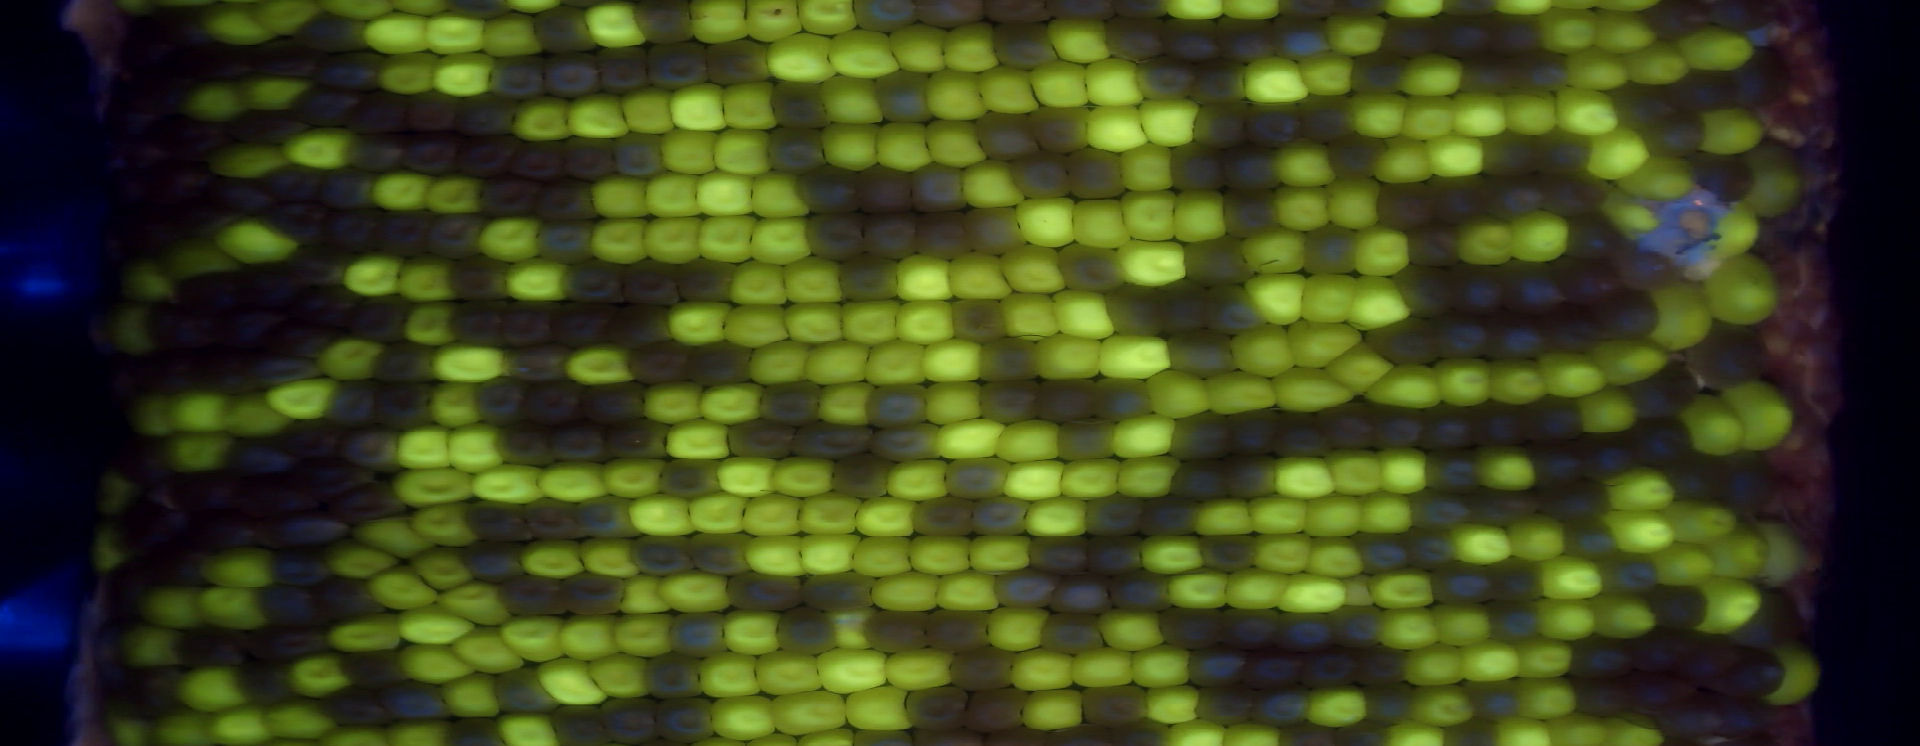fluorescent: (1698, 250, 1788, 332), (1638, 276, 1720, 358), (1718, 377, 1802, 454), (1738, 137, 1812, 222), (208, 211, 307, 269), (1676, 388, 1753, 462), (1671, 18, 1763, 78), (1693, 573, 1771, 639), (148, 232, 242, 285), (825, 23, 907, 85), (168, 660, 255, 718), (1283, 315, 1368, 374), (195, 1, 288, 54), (1269, 363, 1359, 416), (1758, 639, 1827, 710), (1602, 503, 1686, 561), (1586, 336, 1674, 391), (348, 513, 442, 565), (1111, 235, 1196, 292), (1746, 514, 1813, 586), (1706, 519, 1778, 586), (187, 581, 272, 637), (763, 685, 852, 737), (1343, 271, 1413, 338), (388, 461, 484, 510), (920, 65, 994, 127), (816, 72, 891, 134), (762, 28, 844, 85), (388, 601, 482, 650), (1619, 151, 1704, 205), (1583, 120, 1654, 185), (1041, 13, 1119, 72), (1092, 330, 1179, 382), (1043, 284, 1118, 345), (813, 646, 898, 699), (433, 577, 516, 632), (1660, 495, 1746, 548), (446, 624, 529, 677), (997, 240, 1073, 299), (1599, 461, 1680, 516), (312, 331, 389, 388), (1206, 365, 1283, 423), (1062, 194, 1139, 251), (535, 652, 610, 710), (1264, 132, 1340, 190), (320, 535, 407, 586), (1013, 191, 1082, 254), (132, 581, 213, 635), (1370, 130, 1442, 190), (262, 372, 344, 425), (396, 638, 484, 687), (751, 646, 829, 701), (1402, 675, 1480, 730), (655, 565, 735, 619), (1532, 347, 1611, 401), (1318, 171, 1386, 234), (1239, 223, 1315, 279), (1619, 36, 1695, 92), (1082, 97, 1153, 157), (278, 122, 365, 171), (1692, 100, 1769, 156), (562, 87, 636, 145), (558, 338, 640, 390), (885, 17, 951, 81), (1242, 267, 1309, 330), (639, 208, 708, 269), (1506, 208, 1575, 269), (1324, 342, 1393, 402), (496, 610, 572, 665), (1238, 51, 1314, 107), (197, 541, 280, 592), (665, 80, 736, 138), (1321, 443, 1392, 502), (1229, 320, 1300, 379), (1133, 93, 1205, 151), (361, 563, 442, 615), (1134, 526, 1211, 579), (959, 156, 1032, 212), (694, 647, 768, 703), (531, 454, 613, 505), (1502, 510, 1577, 565), (1147, 365, 1216, 425), (869, 118, 939, 176), (891, 247, 961, 306), (662, 298, 738, 352), (735, 488, 811, 541), (844, 684, 920, 737), (980, 601, 1056, 655), (552, 608, 623, 665), (1266, 178, 1337, 235), (920, 115, 992, 171), (945, 247, 1018, 304), (1428, 354, 1500, 410), (1562, 40, 1635, 97), (427, 334, 508, 385), (718, 301, 798, 352), (1364, 361, 1445, 412), (1118, 185, 1183, 247), (1455, 209, 1520, 272), (474, 211, 547, 266), (1081, 51, 1149, 111), (692, 209, 760, 268), (1033, 330, 1108, 383), (1550, 83, 1625, 137), (780, 252, 851, 309), (722, 255, 793, 311), (230, 71, 318, 116), (793, 526, 866, 581), (1353, 220, 1418, 282), (358, 9, 435, 60), (796, 336, 873, 387), (626, 488, 703, 539), (1051, 453, 1128, 505), (502, 254, 576, 307), (392, 418, 459, 477), (998, 287, 1065, 345), (1396, 47, 1469, 100), (975, 60, 1043, 118), (102, 292, 159, 360), (468, 458, 546, 508), (474, 10, 549, 62), (778, 295, 852, 348), (282, 648, 356, 701), (705, 691, 780, 744), (1532, 2, 1607, 55), (1422, 126, 1491, 183), (1375, 601, 1446, 657), (1169, 185, 1232, 247), (932, 416, 1011, 465), (939, 18, 1004, 78), (860, 336, 932, 390), (1587, 4, 1659, 58), (748, 167, 816, 224), (323, 611, 407, 658), (1479, 355, 1553, 408), (203, 698, 284, 746), (388, 250, 458, 305), (163, 383, 233, 439), (1423, 600, 1498, 652), (1097, 604, 1172, 655), (1104, 412, 1179, 463), (111, 255, 182, 309), (715, 605, 786, 659), (1513, 670, 1584, 724), (1537, 551, 1608, 605), (1271, 450, 1342, 503), (217, 388, 293, 439), (716, 78, 782, 136), (580, 1, 653, 54), (710, 451, 782, 503), (1124, 639, 1196, 692), (442, 419, 509, 475), (658, 125, 726, 180), (882, 453, 955, 505), (576, 530, 644, 586), (1648, 540, 1722, 592), (1472, 445, 1540, 500), (609, 608, 678, 661), (1531, 590, 1600, 644), (741, 530, 816, 581), (931, 568, 1005, 619), (1113, 452, 1188, 502), (1298, 268, 1359, 330), (710, 124, 774, 183), (587, 213, 651, 271), (1029, 55, 1093, 113), (1708, 198, 1764, 265), (140, 704, 229, 746), (912, 334, 984, 386), (408, 499, 480, 550), (1293, 45, 1360, 100), (337, 247, 405, 301), (1299, 530, 1368, 584), (686, 1, 759, 51), (1019, 685, 1092, 735), (994, 416, 1068, 467), (891, 295, 961, 348), (585, 650, 655, 703), (696, 379, 770, 428), (157, 424, 231, 473), (1297, 490, 1371, 539), (1019, 492, 1093, 541), (818, 118, 883, 174), (429, 48, 500, 99), (744, 213, 816, 265), (1398, 638, 1469, 690), (1447, 518, 1518, 570), (882, 644, 960, 691), (692, 167, 758, 222), (662, 415, 735, 465), (1223, 562, 1296, 612), (204, 137, 291, 179), (795, 488, 863, 540), (411, 171, 491, 217), (1009, 646, 1082, 695), (768, 451, 838, 502), (866, 570, 943, 616), (1597, 185, 1660, 241), (642, 167, 707, 222), (588, 168, 653, 223), (1498, 85, 1562, 140), (1398, 87, 1463, 142), (422, 10, 493, 60), (849, 491, 920, 541), (407, 544, 478, 594), (118, 621, 189, 671), (509, 92, 576, 146), (1573, 382, 1640, 436), (636, 379, 708, 428), (905, 530, 977, 579), (1509, 633, 1584, 680), (1117, 138, 1178, 196), (616, 82, 678, 138), (398, 296, 460, 353), (258, 699, 343, 741), (1187, 494, 1260, 541), (1373, 445, 1436, 500), (371, 48, 441, 98), (742, 336, 812, 386), (1166, 565, 1236, 615), (1273, 568, 1351, 614), (918, 379, 989, 428), (1451, 635, 1522, 684), (1000, 454, 1071, 503), (178, 77, 250, 125), (367, 168, 440, 216), (1344, 89, 1413, 140), (965, 530, 1038, 577), (1449, 87, 1513, 140), (838, 294, 904, 345), (1588, 594, 1663, 639), (1067, 646, 1141, 691), (684, 488, 752, 538), (849, 530, 916, 581), (816, 377, 878, 431), (514, 535, 587, 582), (1368, 565, 1440, 611), (1351, 488, 1419, 537), (1322, 9, 1391, 58), (1254, 526, 1318, 578), (438, 671, 504, 722), (424, 376, 485, 429), (1243, 492, 1314, 538), (598, 454, 665, 502), (1139, 680, 1206, 728), (1303, 684, 1370, 731), (819, 604, 882, 654), (740, 1, 807, 47), (613, 570, 673, 619), (249, 1, 324, 39), (791, 1, 864, 40), (492, 708, 567, 746), (83, 517, 132, 575), (88, 469, 142, 519), (1598, 709, 1670, 746), (1542, 709, 1613, 746), (122, 392, 175, 441), (1487, 710, 1558, 746), (378, 715, 457, 746), (1155, 715, 1232, 746), (1381, 715, 1453, 746), (96, 710, 157, 746), (1215, 715, 1284, 746), (318, 1, 404, 24), (1213, 1, 1291, 24), (1153, 1, 1228, 24), (315, 725, 394, 746), (1340, 570, 1378, 612), (384, 1, 454, 21)
nonfluorescent: (1685, 317, 1777, 394), (1725, 584, 1809, 654), (1620, 359, 1709, 421), (1708, 641, 1791, 706), (111, 661, 195, 725), (1712, 446, 1784, 518), (114, 489, 195, 552), (249, 506, 358, 552), (313, 680, 399, 736), (1176, 232, 1258, 290), (1728, 43, 1794, 114), (295, 452, 382, 506), (1162, 325, 1248, 379), (324, 477, 411, 529), (684, 528, 765, 584), (920, 603, 1002, 658), (169, 619, 255, 671), (1053, 241, 1131, 299), (1389, 258, 1467, 316), (255, 578, 334, 635), (959, 201, 1035, 260), (1685, 148, 1763, 205), (192, 341, 266, 401), (1668, 625, 1741, 685), (1594, 285, 1668, 345), (700, 31, 775, 89), (336, 419, 410, 478), (242, 619, 337, 665), (896, 682, 976, 737), (969, 108, 1044, 165), (1162, 408, 1238, 465), (1216, 183, 1286, 245), (111, 65, 190, 120), (369, 374, 442, 432), (1624, 408, 1698, 465), (987, 20, 1067, 73), (1562, 630, 1642, 684), (373, 674, 457, 725), (721, 414, 804, 465), (1100, 281, 1168, 343), (1200, 278, 1269, 341), (1607, 78, 1682, 135), (767, 75, 838, 135), (1215, 140, 1292, 195), (1058, 142, 1130, 201), (233, 470, 321, 518), (1531, 124, 1599, 185), (489, 661, 564, 717), (785, 418, 879, 462), (1671, 64, 1749, 118), (687, 336, 760, 392), (866, 416, 950, 465), (1542, 163, 1615, 219), (1706, 686, 1784, 739), (868, 67, 936, 129), (912, 206, 980, 267), (800, 205, 868, 265), (771, 603, 841, 661), (1428, 169, 1498, 228), (1075, 680, 1155, 731), (628, 529, 704, 583), (939, 450, 1015, 503), (1476, 307, 1551, 361), (1476, 127, 1547, 185), (1648, 696, 1731, 745), (1089, 370, 1161, 426), (311, 572, 388, 625), (858, 606, 939, 657), (793, 566, 880, 612), (907, 158, 975, 218), (1164, 138, 1232, 198), (836, 247, 905, 306), (224, 429, 302, 480), (528, 4, 602, 58), (1643, 578, 1718, 632), (860, 207, 929, 265), (618, 256, 688, 314), (1498, 258, 1569, 315), (1213, 11, 1284, 67), (516, 375, 591, 428), (1638, 108, 1714, 160), (258, 198, 338, 249), (568, 491, 648, 541), (204, 307, 290, 354), (1026, 100, 1098, 156), (1078, 489, 1150, 544), (1264, 405, 1336, 461), (576, 376, 653, 428), (133, 539, 211, 590), (989, 563, 1067, 615), (1565, 670, 1642, 722), (1365, 314, 1442, 365), (1447, 258, 1513, 318), (136, 1, 217, 50), (624, 334, 698, 388), (1008, 146, 1075, 205), (142, 300, 220, 350), (495, 571, 573, 621), (517, 492, 591, 545), (602, 413, 677, 465), (1558, 212, 1633, 263), (1374, 12, 1453, 61), (528, 171, 600, 225), (649, 692, 721, 746), (828, 450, 900, 503), (1367, 396, 1433, 454), (247, 36, 331, 82), (555, 257, 632, 307), (602, 300, 680, 350), (138, 158, 212, 211), (118, 208, 191, 261), (558, 566, 632, 619), (109, 20, 178, 76), (648, 452, 729, 500), (1313, 399, 1382, 454), (1156, 601, 1231, 653), (1591, 548, 1665, 599), (945, 646, 1024, 695), (720, 570, 809, 612), (444, 251, 516, 305), (975, 331, 1046, 385), (1264, 11, 1335, 65), (1298, 220, 1363, 279), (1037, 608, 1113, 658), (1179, 55, 1251, 108), (249, 345, 328, 393), (852, 160, 920, 217), (945, 292, 1013, 348), (287, 11, 372, 55), (1540, 475, 1618, 524), (1293, 89, 1362, 145), (538, 48, 607, 102), (673, 254, 743, 307), (96, 555, 149, 625), (642, 648, 711, 702), (1160, 13, 1229, 67), (542, 418, 617, 468), (1515, 393, 1589, 443), (1153, 274, 1212, 338), (795, 165, 866, 218), (369, 336, 440, 388), (231, 658, 302, 710), (973, 375, 1044, 428), (1032, 372, 1103, 425), (1182, 638, 1253, 691), (1480, 171, 1551, 224), (350, 288, 415, 345), (1665, 448, 1731, 505), (162, 116, 238, 165), (1104, 565, 1177, 616), (1480, 552, 1548, 608), (180, 506, 260, 552), (549, 298, 617, 352), (272, 309, 340, 363), (1131, 51, 1200, 105), (1324, 127, 1392, 181), (463, 497, 536, 548), (907, 491, 981, 541), (1189, 679, 1262, 729), (1424, 557, 1498, 608), (1572, 428, 1646, 478), (642, 40, 711, 93), (1622, 627, 1706, 671), (338, 646, 413, 695), (764, 121, 829, 178), (460, 535, 531, 587), (1100, 13, 1171, 65), (1371, 176, 1438, 232), (1509, 40, 1575, 96), (665, 608, 732, 661), (631, 1, 703, 51), (138, 344, 211, 394), (756, 376, 828, 426), (1403, 485, 1476, 535), (1553, 513, 1625, 563), (1551, 254, 1627, 301), (531, 216, 600, 268), (307, 47, 384, 93), (594, 695, 664, 746), (1191, 96, 1255, 152), (1420, 443, 1485, 499), (862, 379, 933, 429), (373, 207, 440, 261), (171, 269, 252, 314), (1347, 45, 1413, 99), (1635, 1, 1716, 45), (1138, 489, 1205, 541), (1270, 605, 1342, 654), (1524, 439, 1597, 488), (444, 296, 513, 348), (1025, 530, 1093, 582), (1403, 216, 1464, 273), (1431, 9, 1494, 65), (1044, 571, 1118, 619), (1458, 674, 1532, 722), (1467, 485, 1547, 529), (235, 261, 305, 311), (1243, 96, 1308, 149), (291, 281, 366, 327), (1293, 642, 1360, 693), (1358, 677, 1425, 729), (1413, 399, 1480, 451), (116, 431, 175, 490), (492, 420, 564, 468), (321, 375, 382, 431), (100, 88, 156, 151), (471, 372, 534, 428), (498, 341, 574, 386), (425, 209, 489, 263), (276, 415, 345, 464), (399, 129, 464, 181), (1218, 600, 1284, 652), (1482, 594, 1548, 646), (1427, 307, 1498, 355), (1534, 304, 1609, 349), (454, 131, 522, 181), (1468, 398, 1536, 448), (593, 42, 654, 97), (610, 129, 672, 183), (960, 686, 1032, 733), (343, 127, 411, 176), (485, 51, 553, 100), (478, 168, 541, 220), (1080, 530, 1150, 578), (1238, 646, 1308, 693), (1164, 454, 1231, 505), (96, 345, 152, 404), (1222, 448, 1282, 503), (218, 113, 311, 148), (263, 541, 334, 588), (322, 205, 384, 257), (287, 83, 355, 131), (452, 89, 520, 137), (498, 296, 562, 348), (180, 43, 258, 85), (557, 134, 622, 184), (1325, 598, 1390, 648), (1224, 408, 1289, 458), (1052, 414, 1122, 461), (1629, 666, 1702, 710), (1455, 51, 1522, 99), (1615, 247, 1684, 294), (260, 160, 324, 209), (347, 87, 411, 136), (1483, 5, 1543, 58), (168, 472, 241, 514), (402, 87, 464, 137), (315, 164, 378, 213), (1248, 677, 1311, 726), (1352, 529, 1416, 578), (1198, 530, 1262, 578), (287, 243, 355, 287), (1347, 641, 1416, 685), (1400, 522, 1460, 572), (509, 137, 576, 183), (1703, 1, 1787, 37), (547, 702, 613, 746), (972, 491, 1035, 538), (844, 1, 926, 36), (211, 175, 273, 219), (909, 1, 989, 31), (976, 1, 1056, 28), (1329, 714, 1395, 746), (1438, 715, 1504, 746), (92, 127, 122, 190), (1041, 1, 1120, 24), (1275, 720, 1344, 746)
